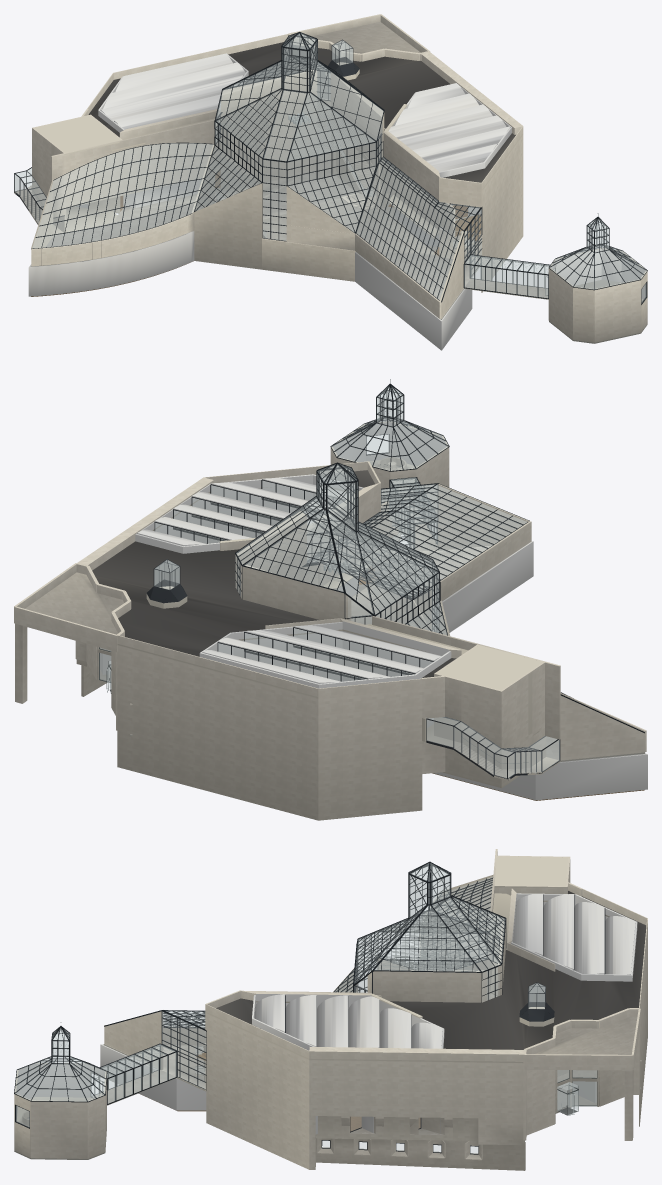
The model's file is building.glb.
3 views of the same model, one above another, from view 1: azimuth 30°, elevation 25°; view 2: azimuth 150°, elevation 25°; view 3: azimuth 270°, elevation 25° (orthographic). The views are drawn at different scales.
Visible parts, largest first — view 1: ENT-01-L00_GLASS, R37_GH_EAST_PORTAL_METAL_HEAD, P05_FRONT_0, P05_MAIN_ATRIUM_BASE_3, R99_W_GROUND_GALLERY_ENTRY_WALL, R24_SHELL_E_00, R82_ENTRY_INNER_WALL, P05_MAIN_ROOF_DECK, P05_FLOOR_L00_GH, P05_WEST_END, R111_W_GALLERY_APPROACH_SOFFIT, P11_WEST_STONE_BASE_0 (+19 smaller); view 2: P05_FRONT_0, ENT-01-L00_GLASS, R99_W_GROUND_GALLERY_ENTRY_WALL, R37_GH_EAST_PORTAL_METAL_HEAD, P05_MAIN_ROOF_DECK, P05_MAIN_ATRIUM_BASE_3, R24_SHELL_E_00, R14_INNER_WALL_A, P07_CANOPY_SLAB_ENVELOPE, P05_WEST_END, R111_W_GALLERY_APPROACH_SOFFIT, R82_ENTRY_INNER_WALL (+11 smaller); view 3: P05_FRONT_0, ENT-01-L00_GLASS, R27_CONTINUOUS_HEAD, R24_SHELL_E_00, R37_GH_EAST_PORTAL_METAL_HEAD, P05_MAIN_ROOF_DECK, R99_W_GROUND_GALLERY_ENTRY_WALL, P07_CORNER_SUPPORT_ENVELOPE, R94_EAST_HIGH_WALL_JOIN, P05_MAIN_ATRIUM_BASE_3, P07_CANOPY_SLAB_ENVELOPE, R111_W_GALLERY_APPROACH_SOFFIT (+13 smaller).
Part boxes in pixels (bbox=[...]): ENT-01-L00_GLASS: bbox=[14, 33, 646, 302]; R37_GH_EAST_PORTAL_METAL_HEAD: bbox=[31, 32, 647, 304]; P05_FRONT_0: bbox=[87, 34, 647, 342]; P05_MAIN_ATRIUM_BASE_3: bbox=[119, 70, 440, 234]; R99_W_GROUND_GALLERY_ENTRY_WALL: bbox=[28, 53, 645, 350]; R24_SHELL_E_00: bbox=[100, 53, 510, 257]; R82_ENTRY_INNER_WALL: bbox=[51, 119, 215, 232]; P05_MAIN_ROOF_DECK: bbox=[88, 42, 515, 182]; P05_FLOOR_L00_GH: bbox=[31, 117, 647, 343]; P05_WEST_END: bbox=[31, 179, 355, 250]; R111_W_GALLERY_APPROACH_SOFFIT: bbox=[35, 62, 523, 238]; P11_WEST_STONE_BASE_0: bbox=[31, 213, 194, 266]; P05_FRONT_0: bbox=[117, 447, 529, 820]; ENT-01-L00_GLASS: bbox=[100, 386, 559, 778]; R99_W_GROUND_GALLERY_ENTRY_WALL: bbox=[100, 422, 647, 800]; R37_GH_EAST_PORTAL_METAL_HEAD: bbox=[154, 383, 644, 733]; P05_MAIN_ROOF_DECK: bbox=[92, 470, 456, 677]; P05_MAIN_ATRIUM_BASE_3: bbox=[235, 483, 461, 658]; R24_SHELL_E_00: bbox=[137, 478, 639, 762]; R14_INNER_WALL_A: bbox=[421, 673, 528, 786]; P07_CANOPY_SLAB_ENVELOPE: bbox=[14, 563, 124, 652]; P05_WEST_END: bbox=[413, 590, 646, 760]; R111_W_GALLERY_APPROACH_SOFFIT: bbox=[117, 485, 542, 735]; R82_ENTRY_INNER_WALL: bbox=[372, 616, 560, 767]; P05_FRONT_0: bbox=[14, 888, 647, 1169]; ENT-01-L00_GLASS: bbox=[15, 863, 596, 1153]; R27_CONTINUOUS_HEAD: bbox=[309, 1047, 525, 1145]; R24_SHELL_E_00: bbox=[254, 893, 635, 1048]; R37_GH_EAST_PORTAL_METAL_HEAD: bbox=[14, 861, 605, 1128]; P05_MAIN_ROOF_DECK: bbox=[216, 891, 646, 1049]; R99_W_GROUND_GALLERY_ENTRY_WALL: bbox=[16, 893, 637, 1134]; P07_CORNER_SUPPORT_ENVELOPE: bbox=[523, 1008, 639, 1140]; R94_EAST_HIGH_WALL_JOIN: bbox=[205, 991, 525, 1170]; P05_MAIN_ATRIUM_BASE_3: bbox=[241, 888, 516, 1002]; P07_CANOPY_SLAB_ENVELOPE: bbox=[524, 1008, 640, 1070]; R111_W_GALLERY_APPROACH_SOFFIT: bbox=[206, 856, 647, 1063].
Bounding box in the file's own units: 80.81 × 35.94 × 93.32.
Materials: 49 (8 with a texture image).
